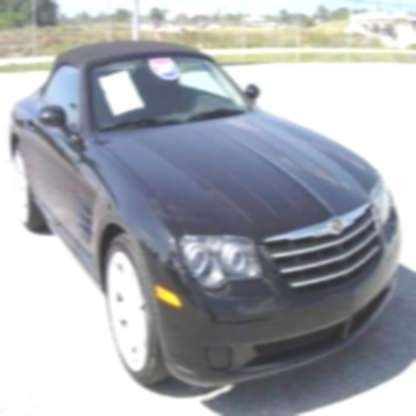Vehicle: (9, 41, 406, 390)
